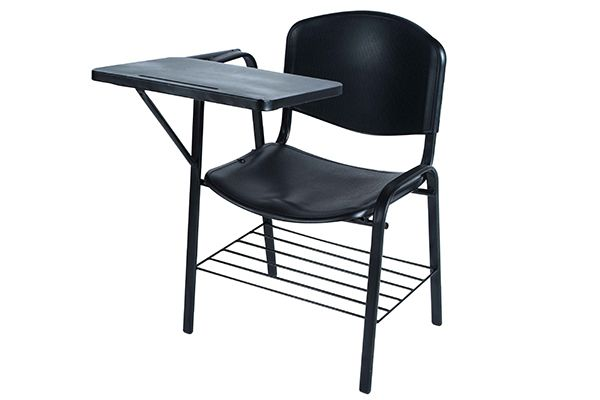m01: (91, 10, 447, 393)
